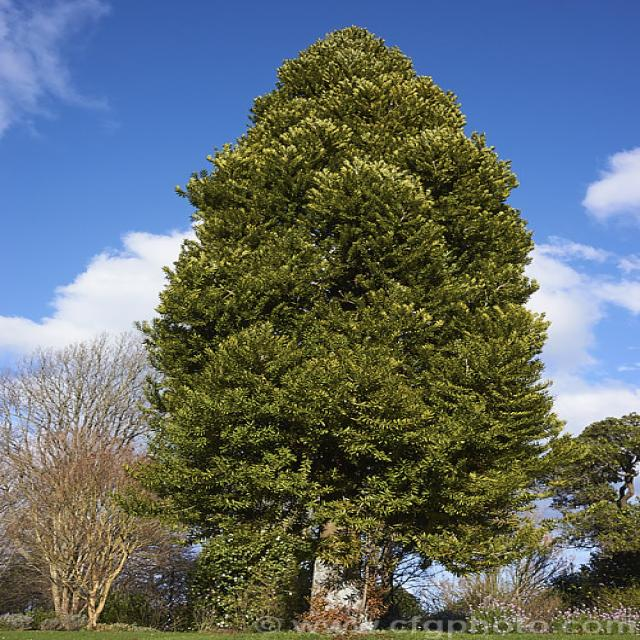Kauri: (162, 33, 548, 605)
